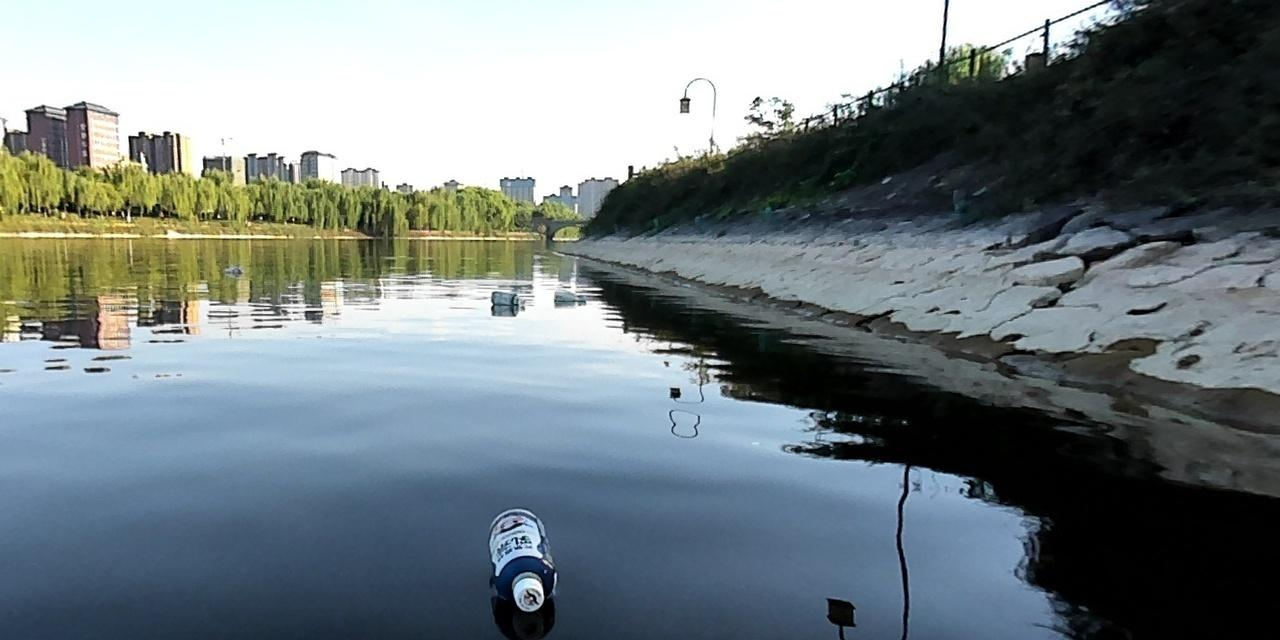bottle: (483, 506, 567, 613), (486, 285, 527, 308), (551, 287, 588, 302), (220, 263, 246, 275)
